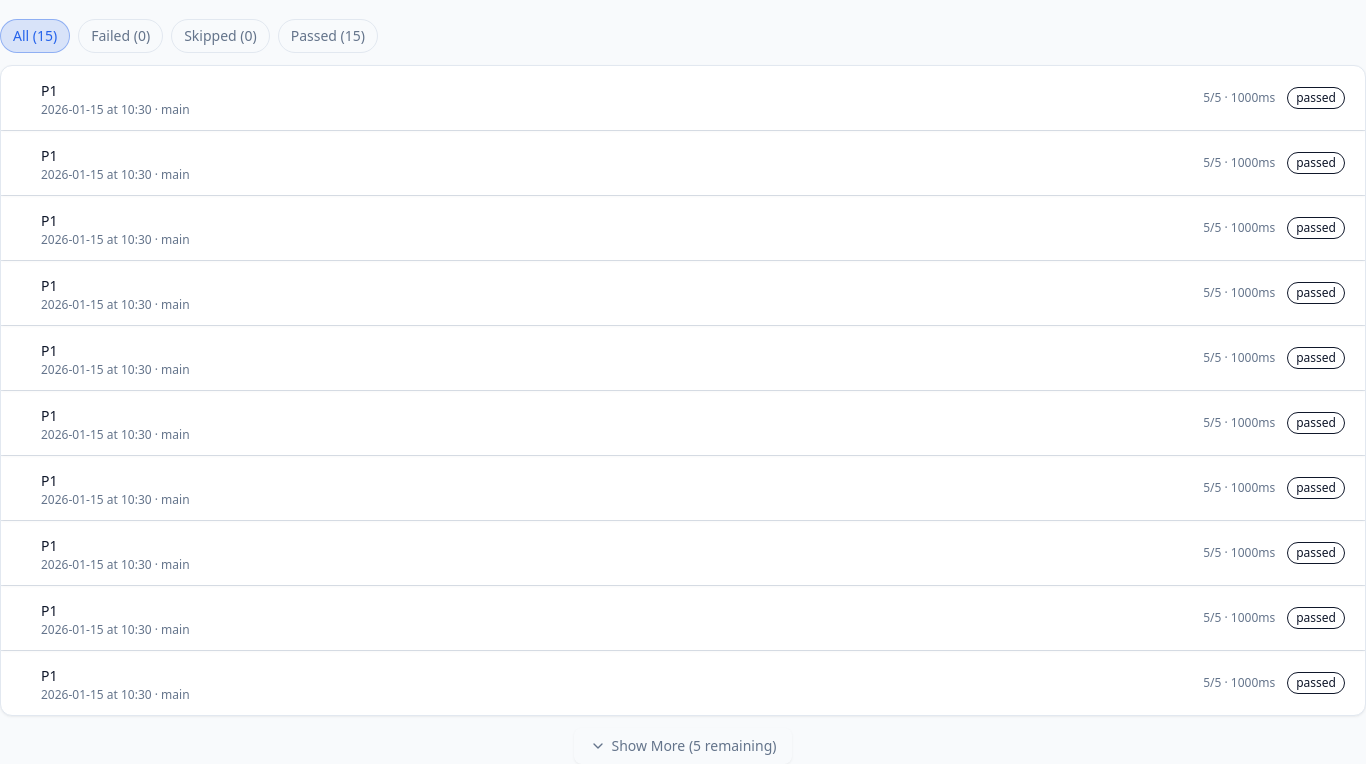
Test case: RecentRuns › loads more runs when "Show More" button is clicked
The image size is (1366, 764).
(page scrolled)
Click the button "Show More (5 remaining)".
click(683, 746)  # box [574,728,792,763]
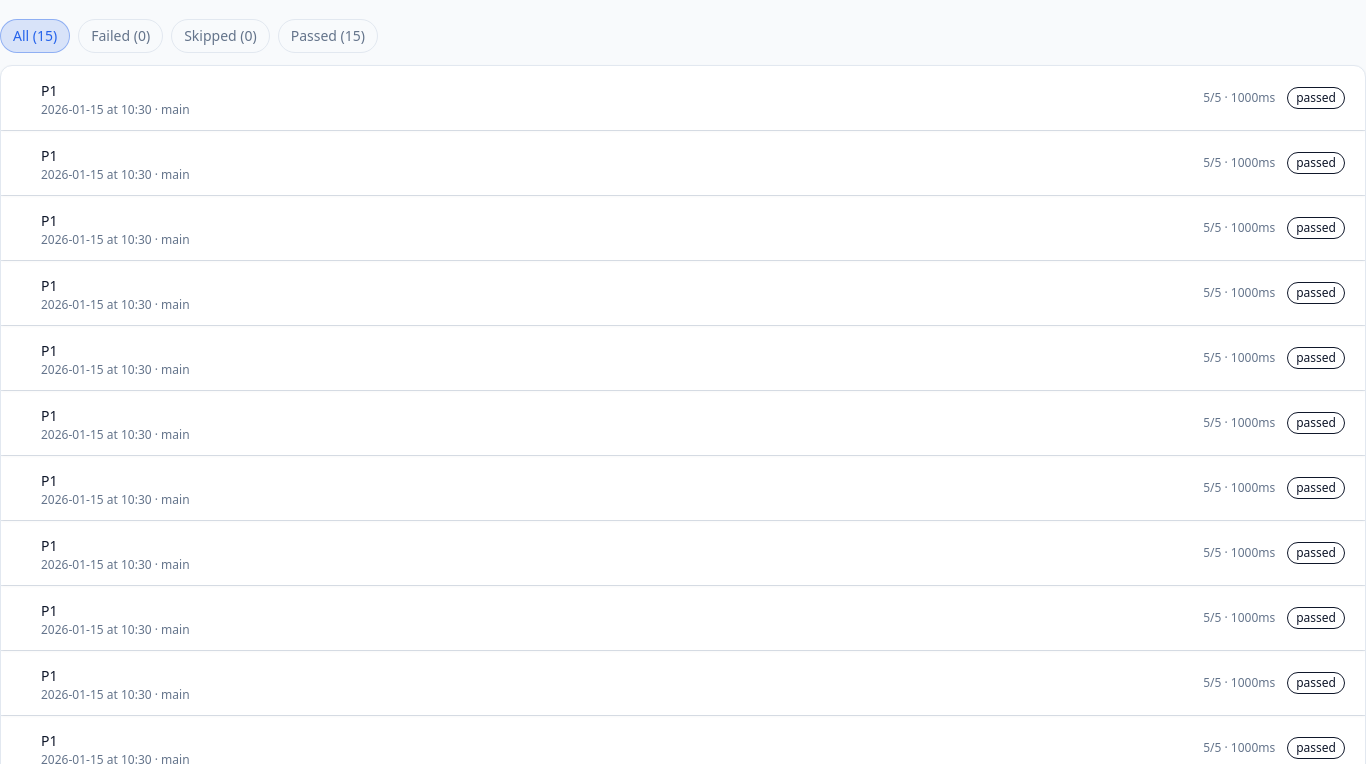
Now the button "Show More" is gone
